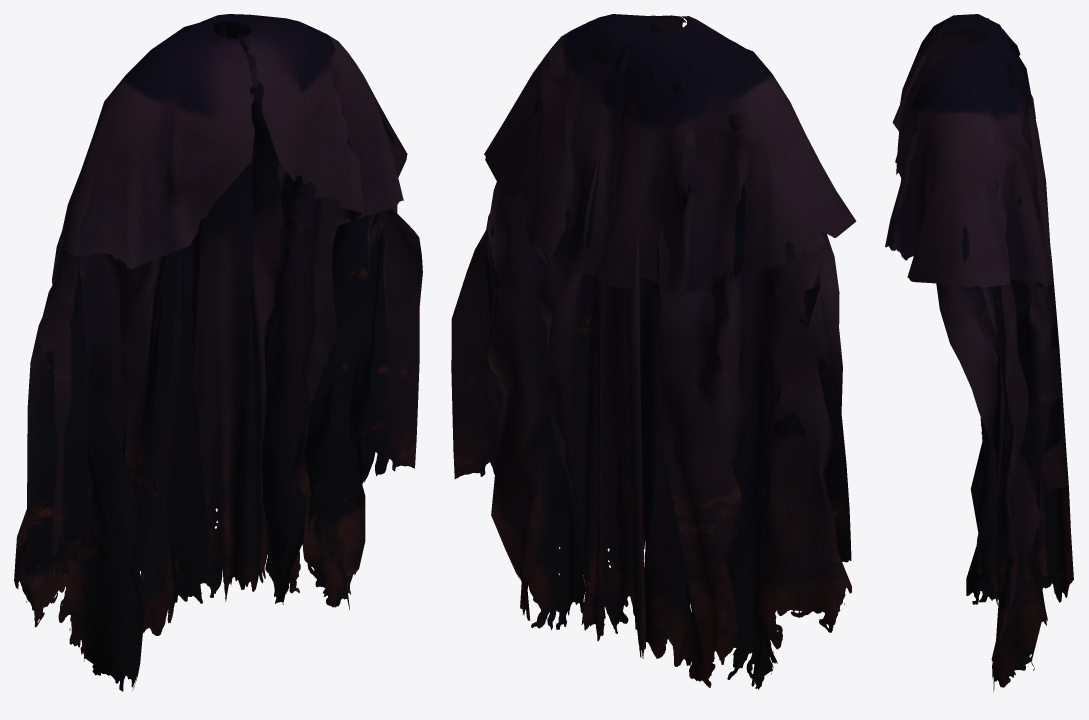
Rendered from guard_cloak_decimated.fbx.
3 views of the same model, side by side, from view 1: azimuth 30°, elevation 25°; view 2: azimuth 150°, elevation 25°; view 3: azimuth 270°, elevation 25° (orthographic). The views are drawn at different scales.
Parts seen in each view (by area): view 1: guard_cloak_decimated; view 2: guard_cloak_decimated; view 3: guard_cloak_decimated.
Boxes of the visible parts, x1,y1,x2,y2 form: guard_cloak_decimated: [14, 14, 422, 691]; guard_cloak_decimated: [451, 14, 856, 689]; guard_cloak_decimated: [885, 14, 1073, 691].
Bounding box in the file's own units: 119 × 183 × 50.5.
